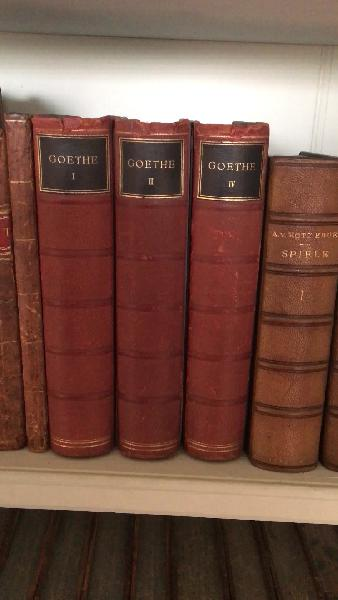Aa6-10: (4, 107, 48, 458)
Aa6-11_13: (31, 115, 255, 470)
